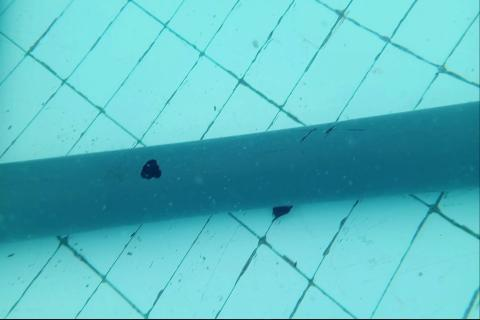kebocoran: (140, 158, 162, 180)
keretakan: (293, 121, 366, 143)
